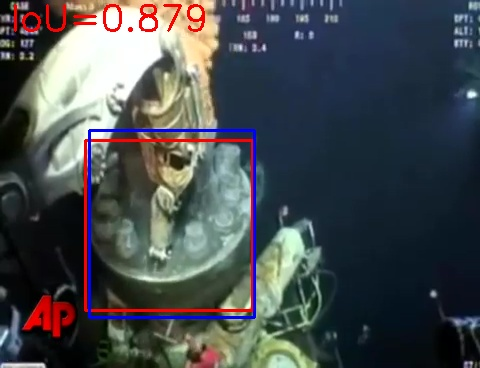flange joint: (86, 141, 253, 311)
